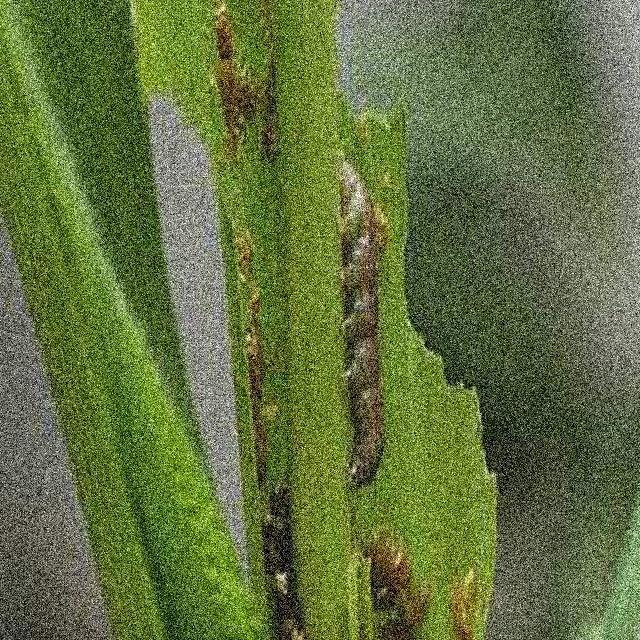gusano_cogollero: (339, 164, 389, 499)
